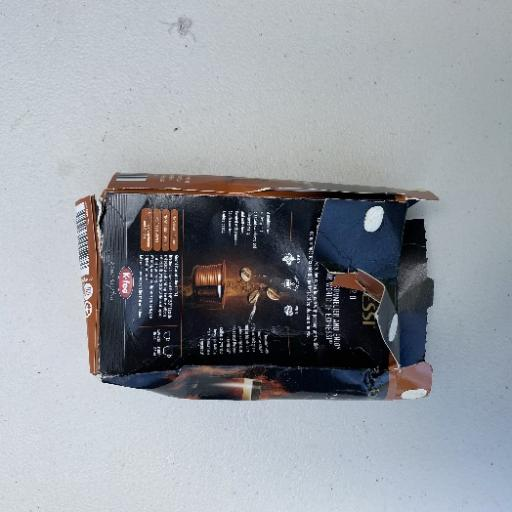Cardboard: (73, 170, 440, 402)
